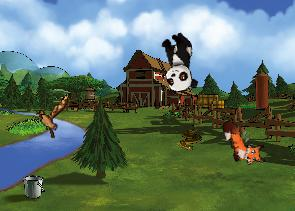eagle: (33, 91, 71, 139)
fox: (219, 112, 269, 172)
panda: (157, 30, 199, 95)
